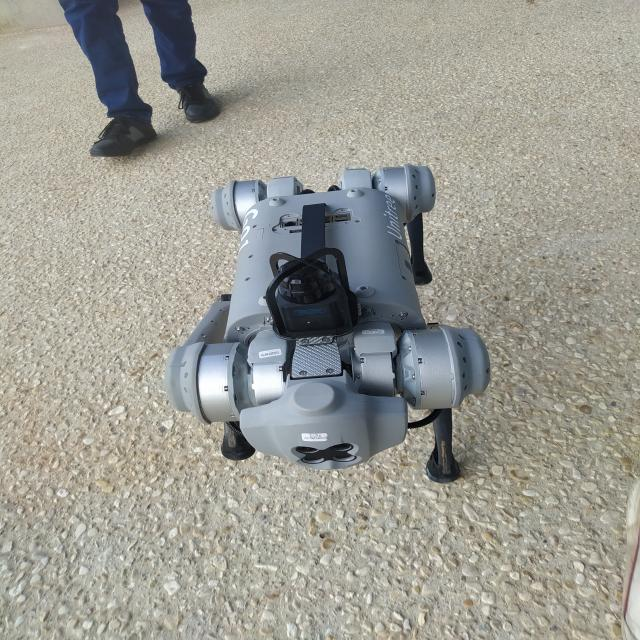unitree-go1-robot: (178, 166, 500, 484)
